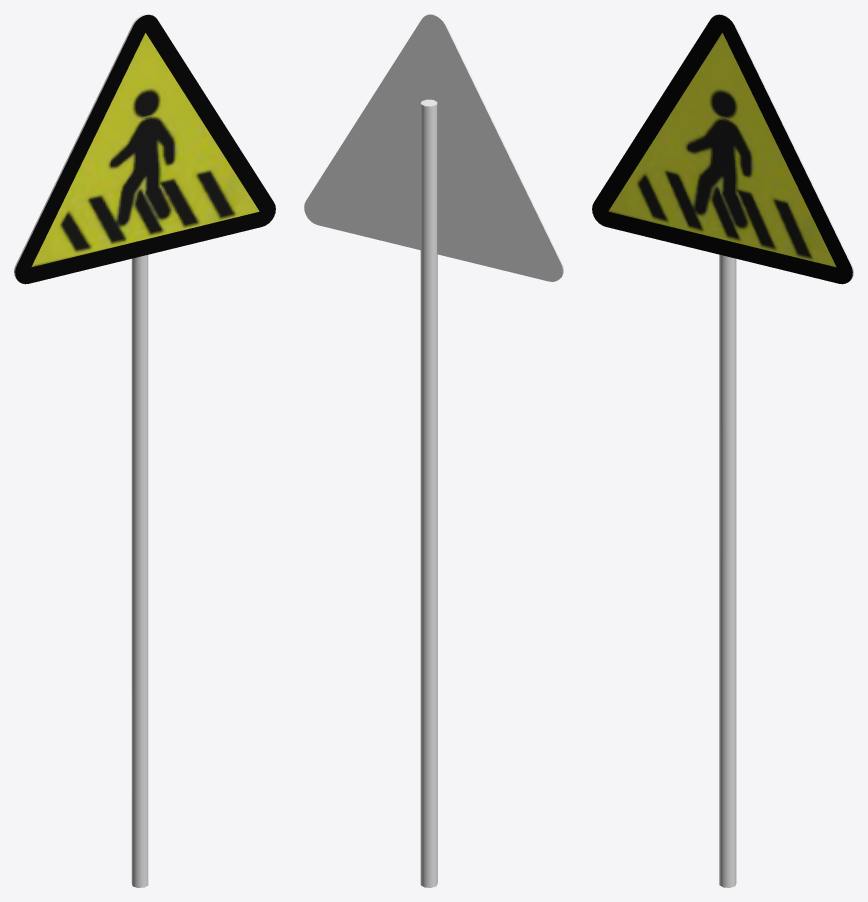
3 renders of one model, left to right at view 1: azimuth 30°, elevation 25°; view 2: azimuth 150°, elevation 25°; view 3: azimuth 330°, elevation 25°, orthographic.
Parts seen in each view (by area): view 1: W11; view 2: W11; view 3: W11.
Boxes of the visible parts, box(x1,y1,x2,y2) form: W11: box(14, 14, 275, 887); W11: box(304, 14, 563, 887); W11: box(592, 14, 853, 887).
Size of the model in its own units: 5.68 by 18.17 by 0.3685.
4 materials, 1 textured.
